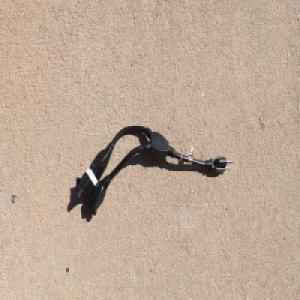Wire: (74, 123, 234, 217)
